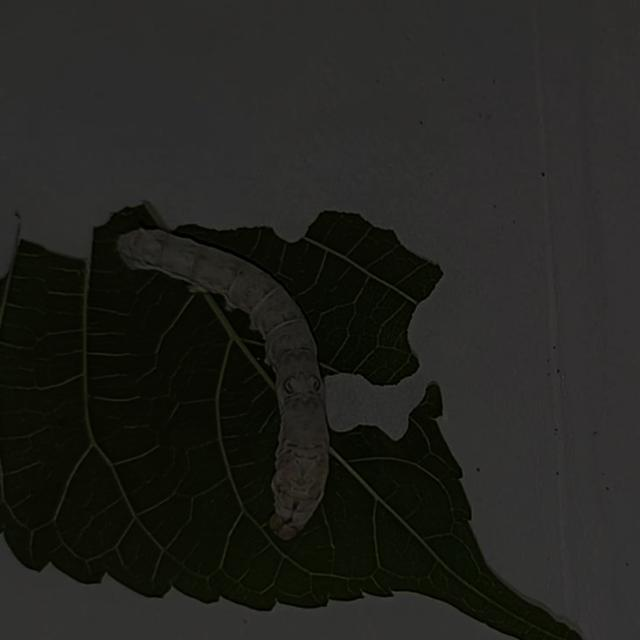Healthy: (99, 209, 361, 553)
